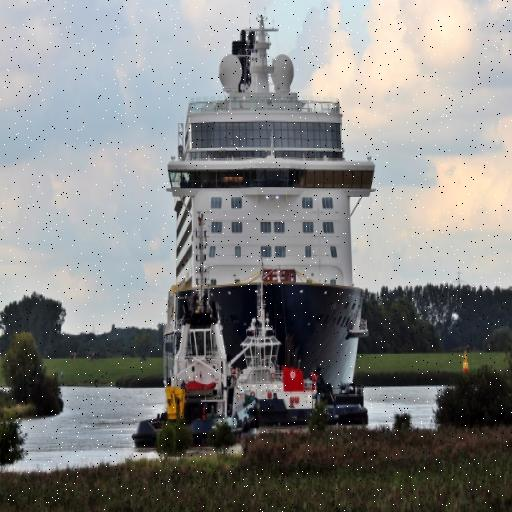cruises: (166, 4, 382, 430)
